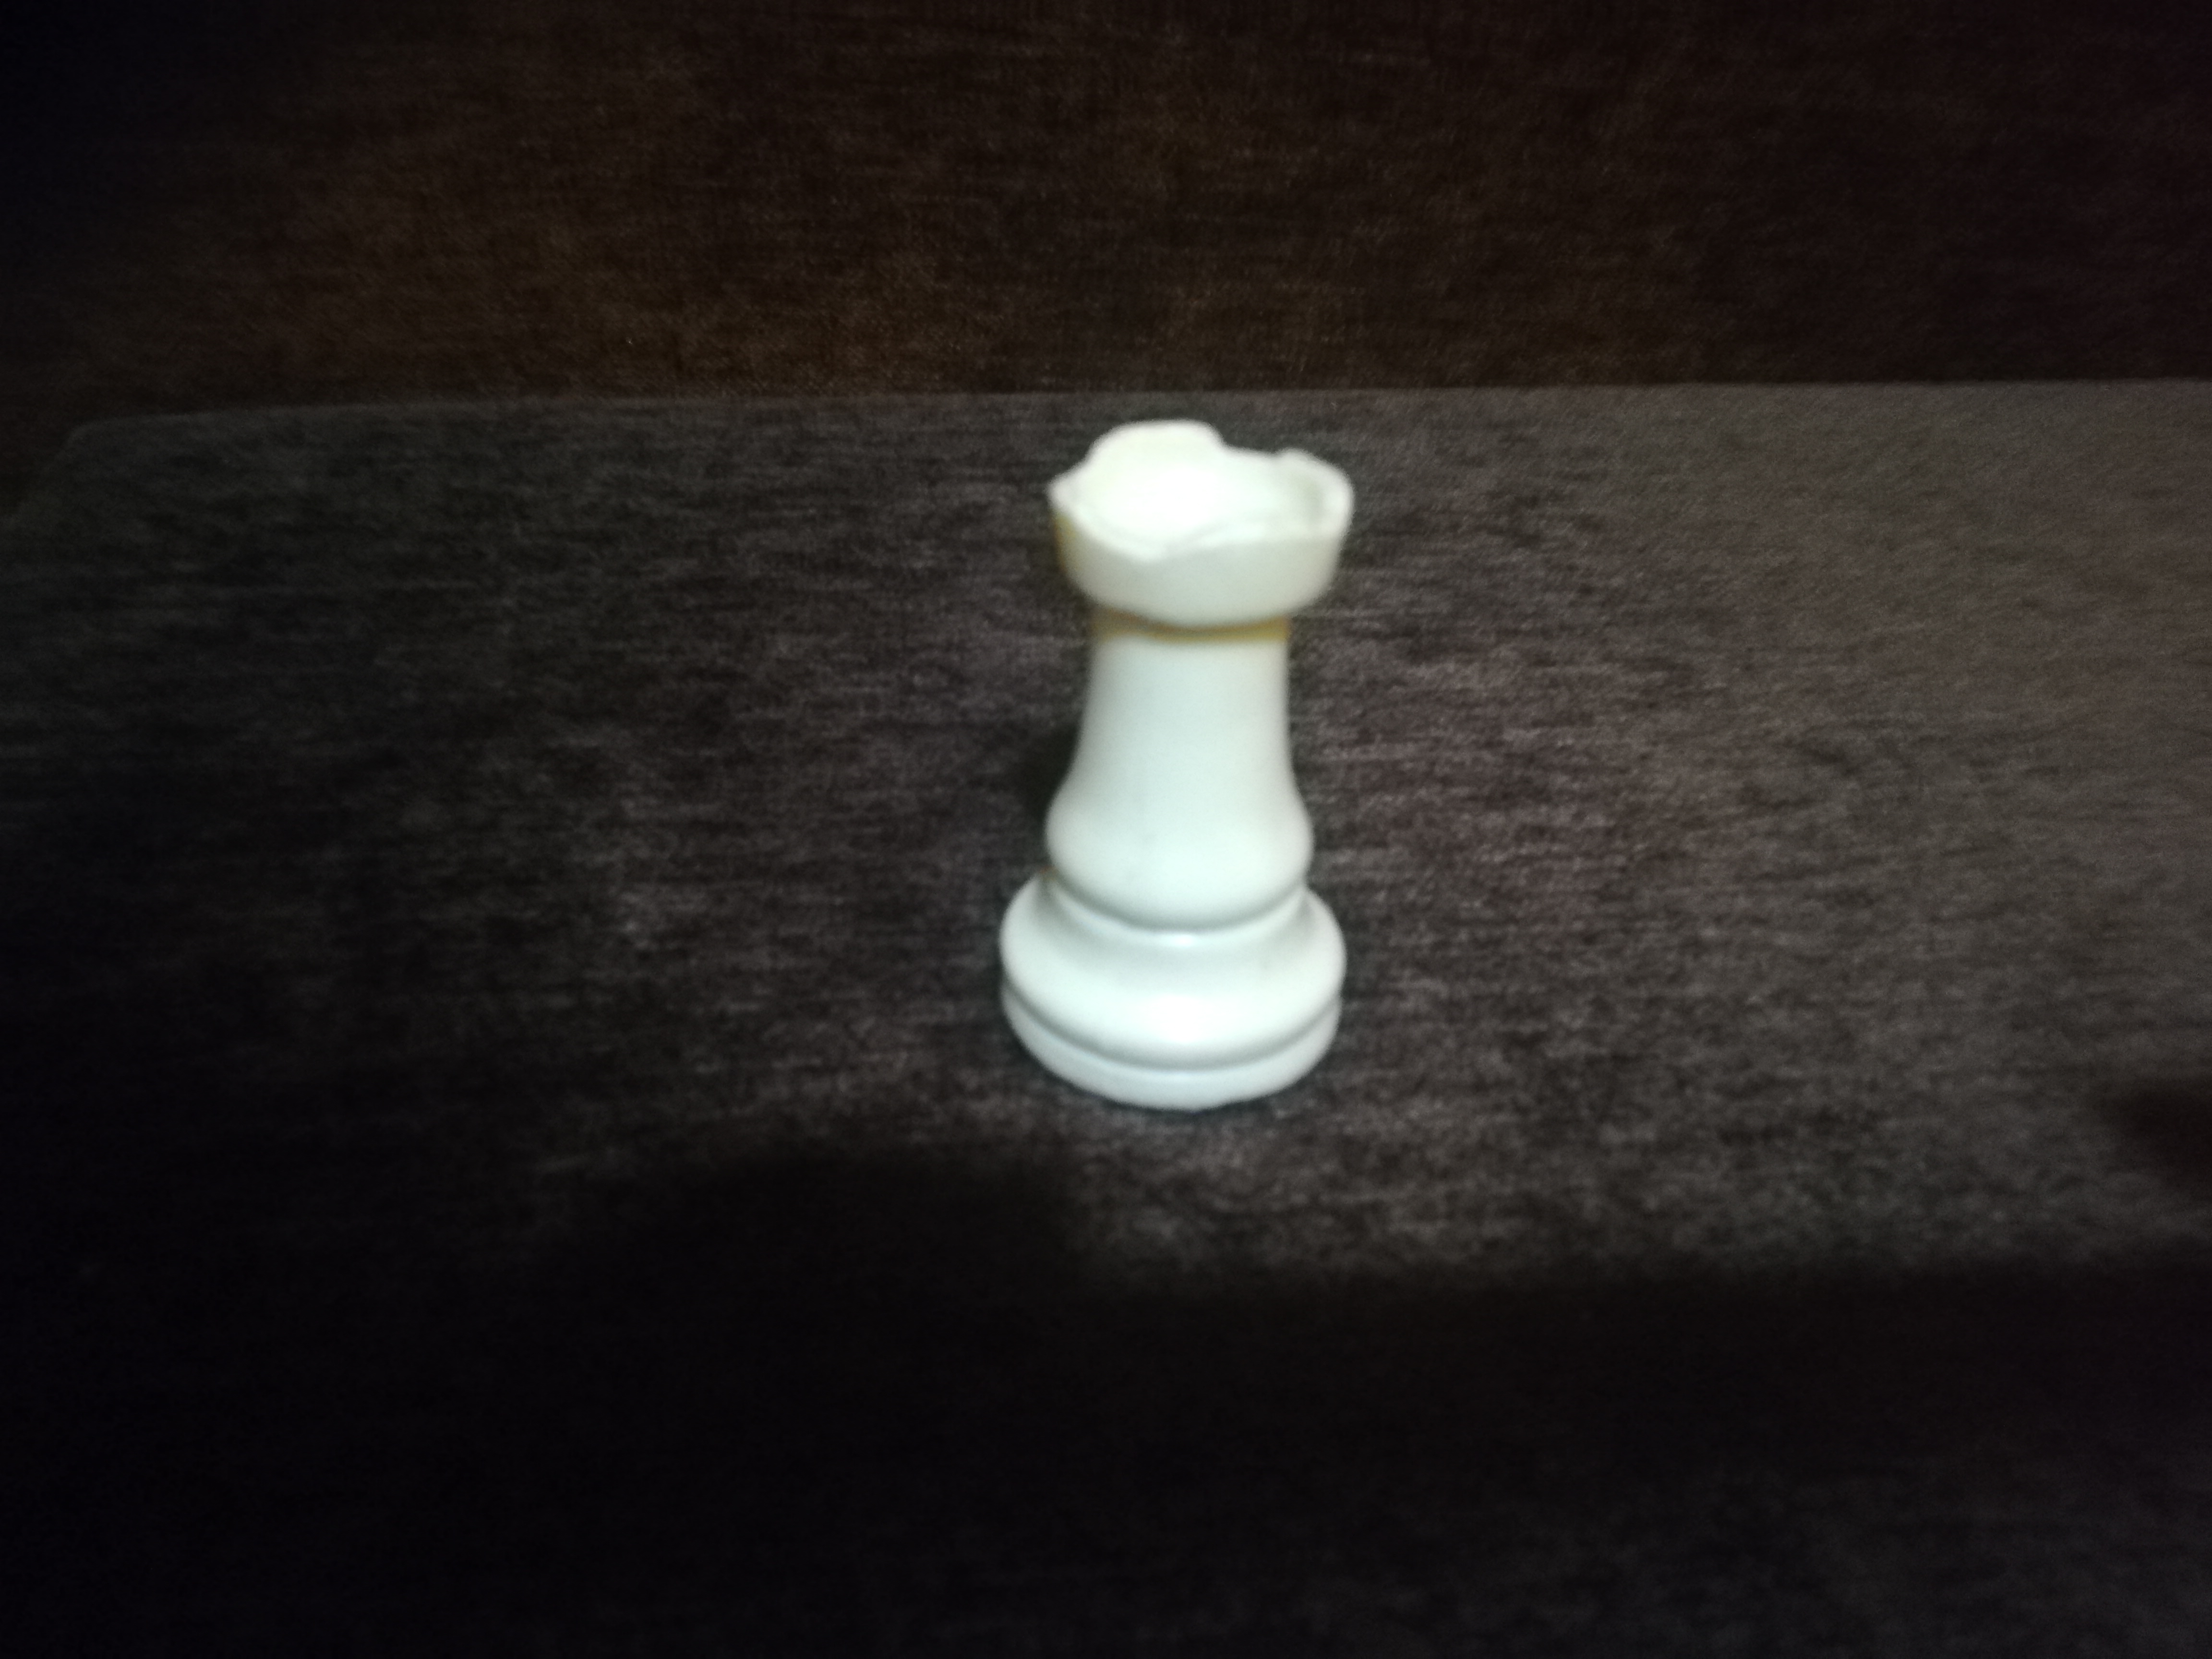Rook: (1022, 369, 1361, 1110)
